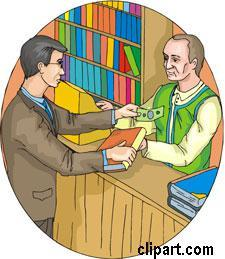person: (1, 35, 134, 240), (99, 32, 224, 183)
